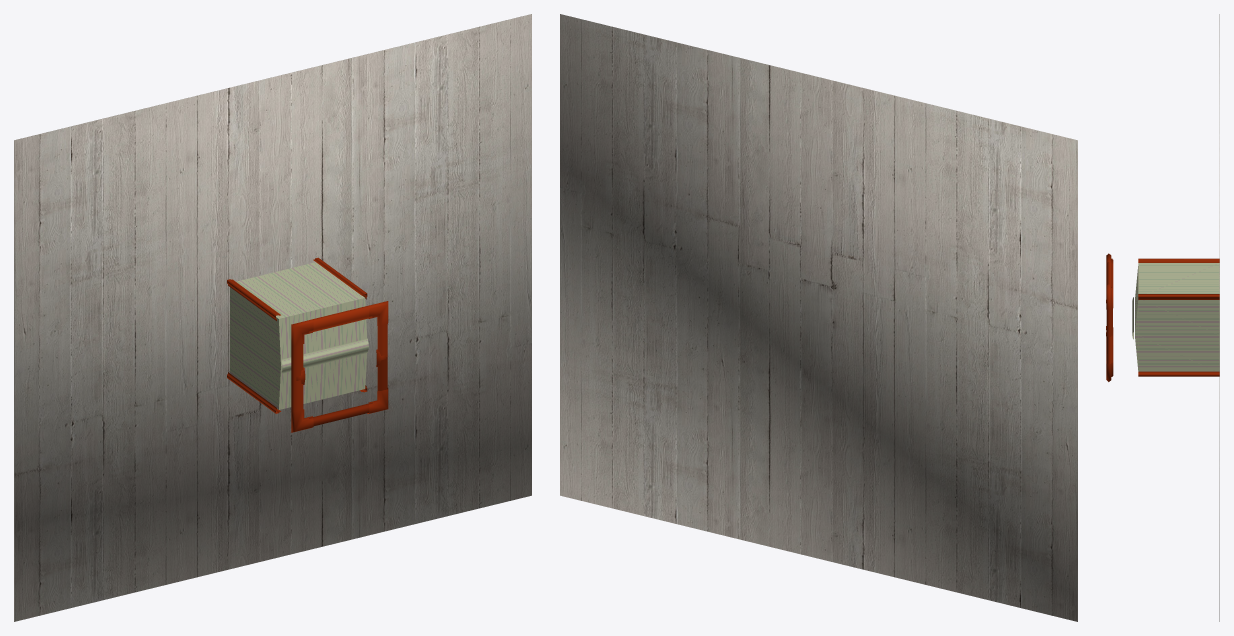
Rendered from building01.obj.
3 renders of one model, left to right at view 1: azimuth 30°, elevation 25°; view 2: azimuth 150°, elevation 25°; view 3: azimuth 270°, elevation 25°, orthographic. The views are drawn at different scales.
Visible parts, largest first — view 1: ground02, roof01, wall_back, wall_right, roof_profile011, profile01002; view 2: ground02; view 3: wall_front, wall_right, ground02, profile01008, profile01009, profile01011, roof01, profile01006, roof_angele_0001, profile1021, profile01002.
Part boxes in pixels (x1,y1,x2,y2): ground02: (14,14,531,621); roof01: (279,298,367,409); wall_back: (230,287,278,409); wall_right: (236,262,364,318); roof_profile011: (281,338,368,373); profile01002: (307,306,372,332); ground02: (560,14,1077,621); wall_front: (1138,300,1219,371); wall_right: (1138,263,1219,293); ground02: (1219,14,1219,621); profile01008: (1138,294,1219,299); profile01009: (1138,371,1219,376); profile01011: (1138,258,1219,262); roof01: (1135,266,1138,369); profile01006: (1106,308,1112,337); roof_angele_0001: (1106,284,1113,310); profile1021: (1106,335,1112,364); profile01002: (1106,261,1113,287).
Bounding box in the file's own units: 91.59 × 81.41 × 21.04.
